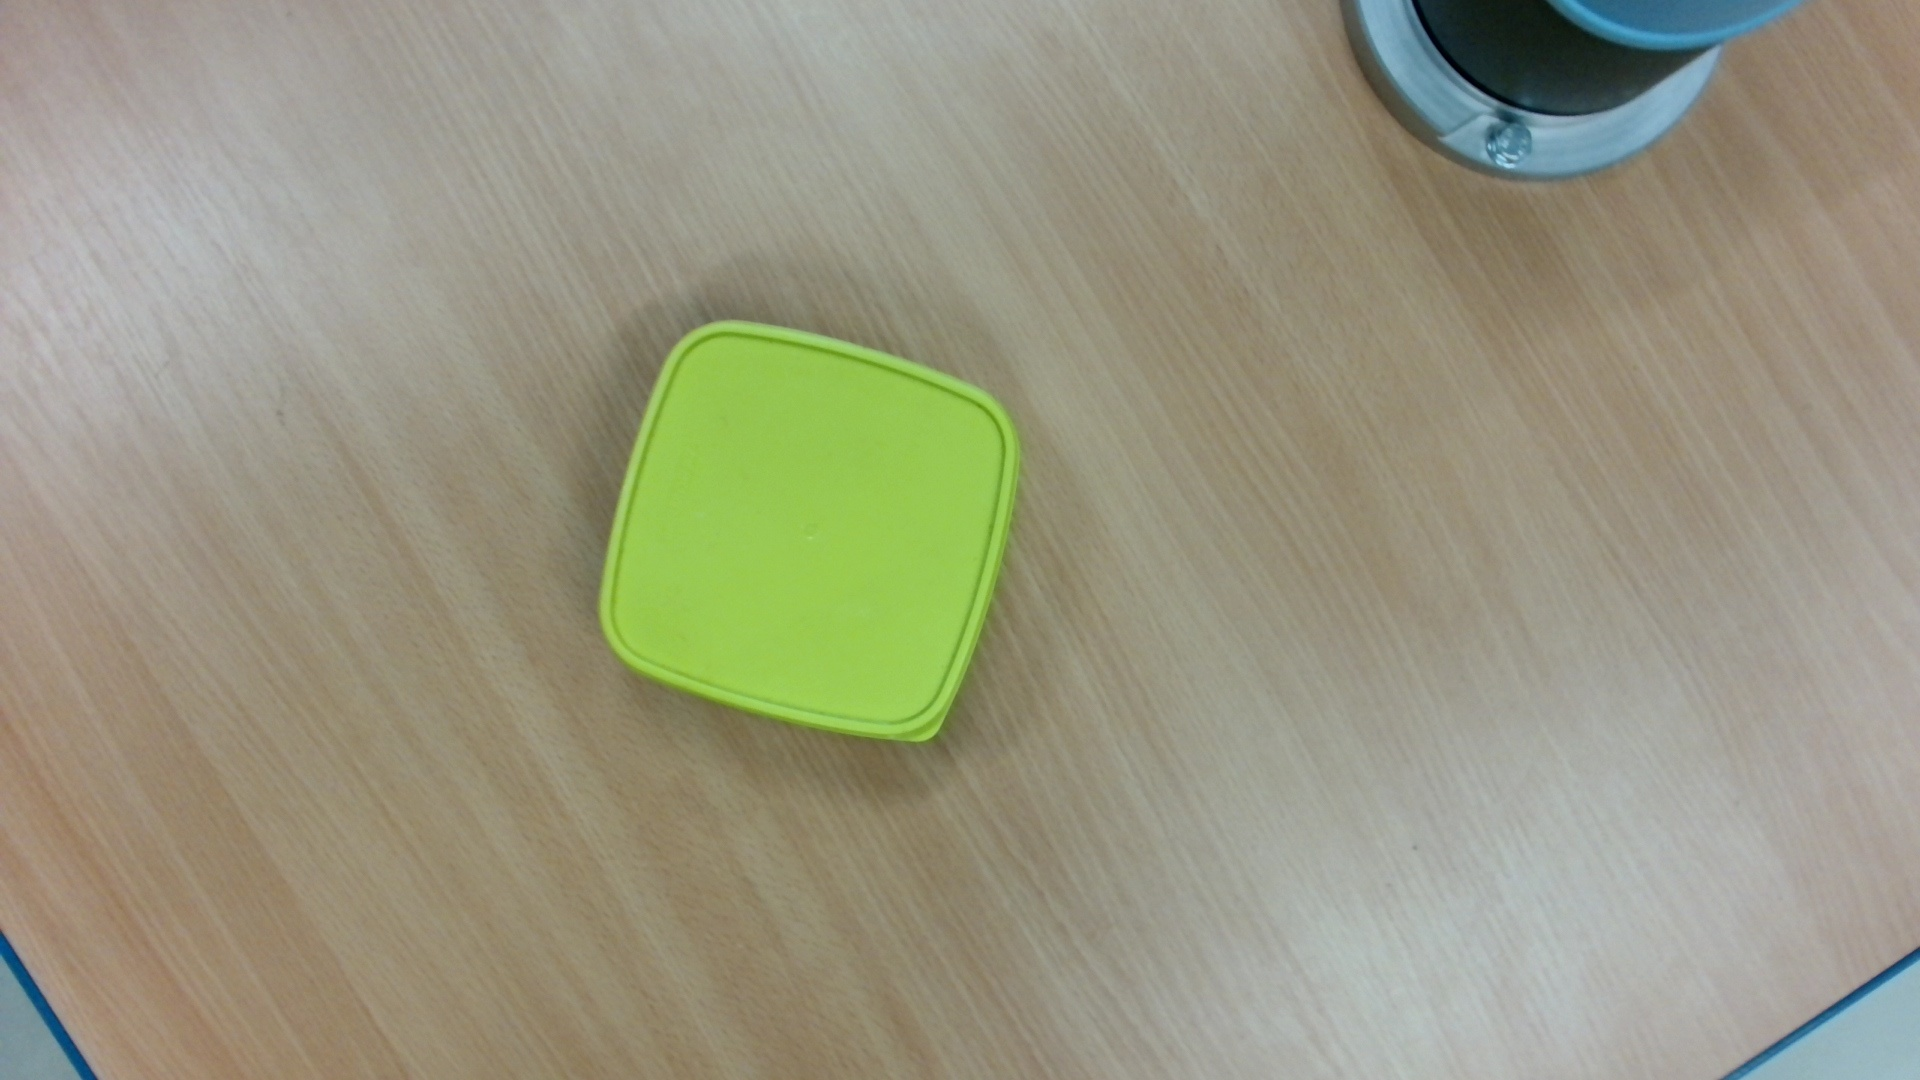Box: (589, 315, 1029, 756)
